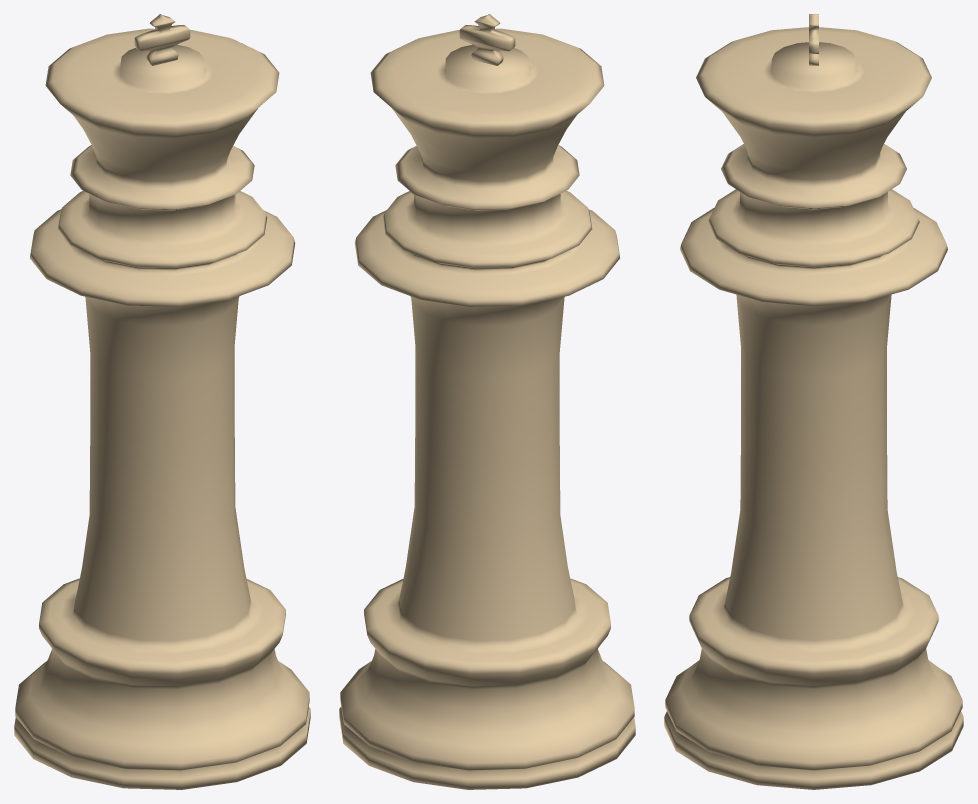
The model's file is King.fbx.
3 renders of one model, left to right at view 1: azimuth 30°, elevation 25°; view 2: azimuth 150°, elevation 25°; view 3: azimuth 270°, elevation 25°, orthographic.
Parts seen in each view (by area): view 1: King; view 2: King; view 3: King.
Part boxes in pixels (<box>): King: <box>14,14,310,789</box>; King: <box>339,14,635,789</box>; King: <box>664,14,963,789</box>.
Size of the model in its own units: 200 by 526 by 200.
